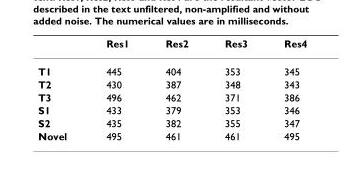table: (37, 36, 306, 141)
table column: (85, 36, 146, 141), (205, 36, 265, 141), (146, 36, 205, 141), (37, 36, 85, 141), (265, 36, 306, 141)
table column header: (37, 36, 306, 56)
table row: (37, 56, 306, 77), (37, 36, 306, 56), (37, 77, 306, 90), (37, 90, 306, 103), (37, 103, 306, 116), (37, 116, 306, 129), (37, 129, 306, 141)
